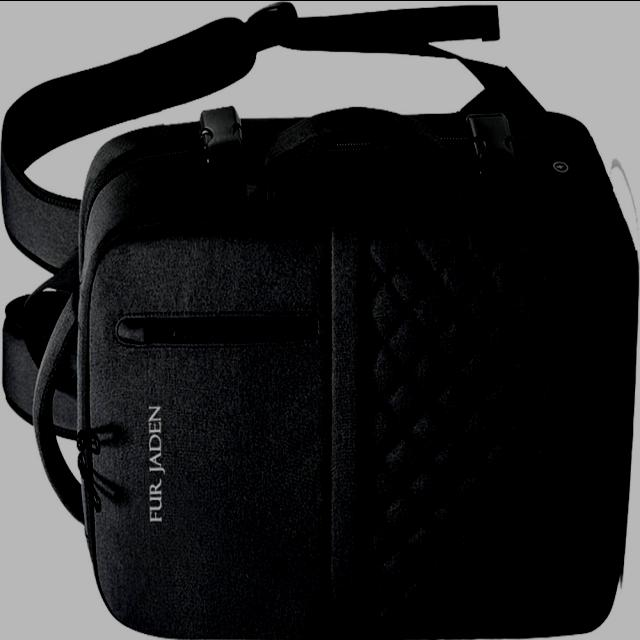backpack: (2, 4, 639, 640)
